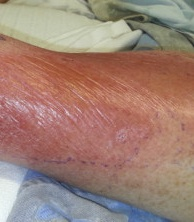SJS-TEN: (0, 50, 180, 174)
